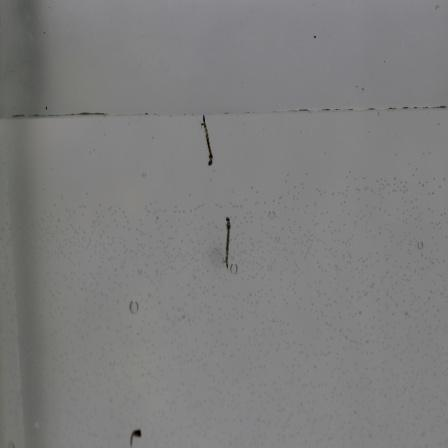Jentik-Nyamuk: (198, 111, 217, 170), (220, 214, 235, 271), (127, 424, 144, 448)
